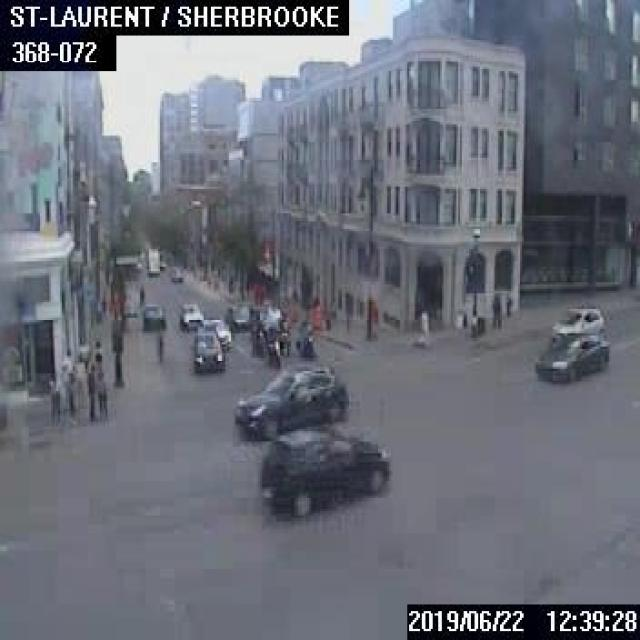construction: (312, 302, 322, 329)
cyclist: (155, 329, 164, 360)
pedestrian: (94, 369, 107, 418), (46, 370, 59, 418), (84, 362, 94, 422), (416, 304, 428, 344), (491, 291, 500, 332), (60, 348, 71, 375), (92, 338, 100, 368), (503, 290, 510, 319), (136, 280, 144, 302)
vehicle: (258, 425, 387, 518), (234, 361, 349, 437), (533, 331, 608, 382), (551, 304, 603, 339), (192, 331, 224, 371), (199, 316, 230, 348), (274, 309, 290, 354), (264, 322, 280, 367), (249, 308, 264, 354), (294, 322, 314, 354), (224, 304, 248, 329), (179, 301, 202, 327), (142, 302, 164, 328), (144, 247, 158, 271), (169, 267, 182, 280)
